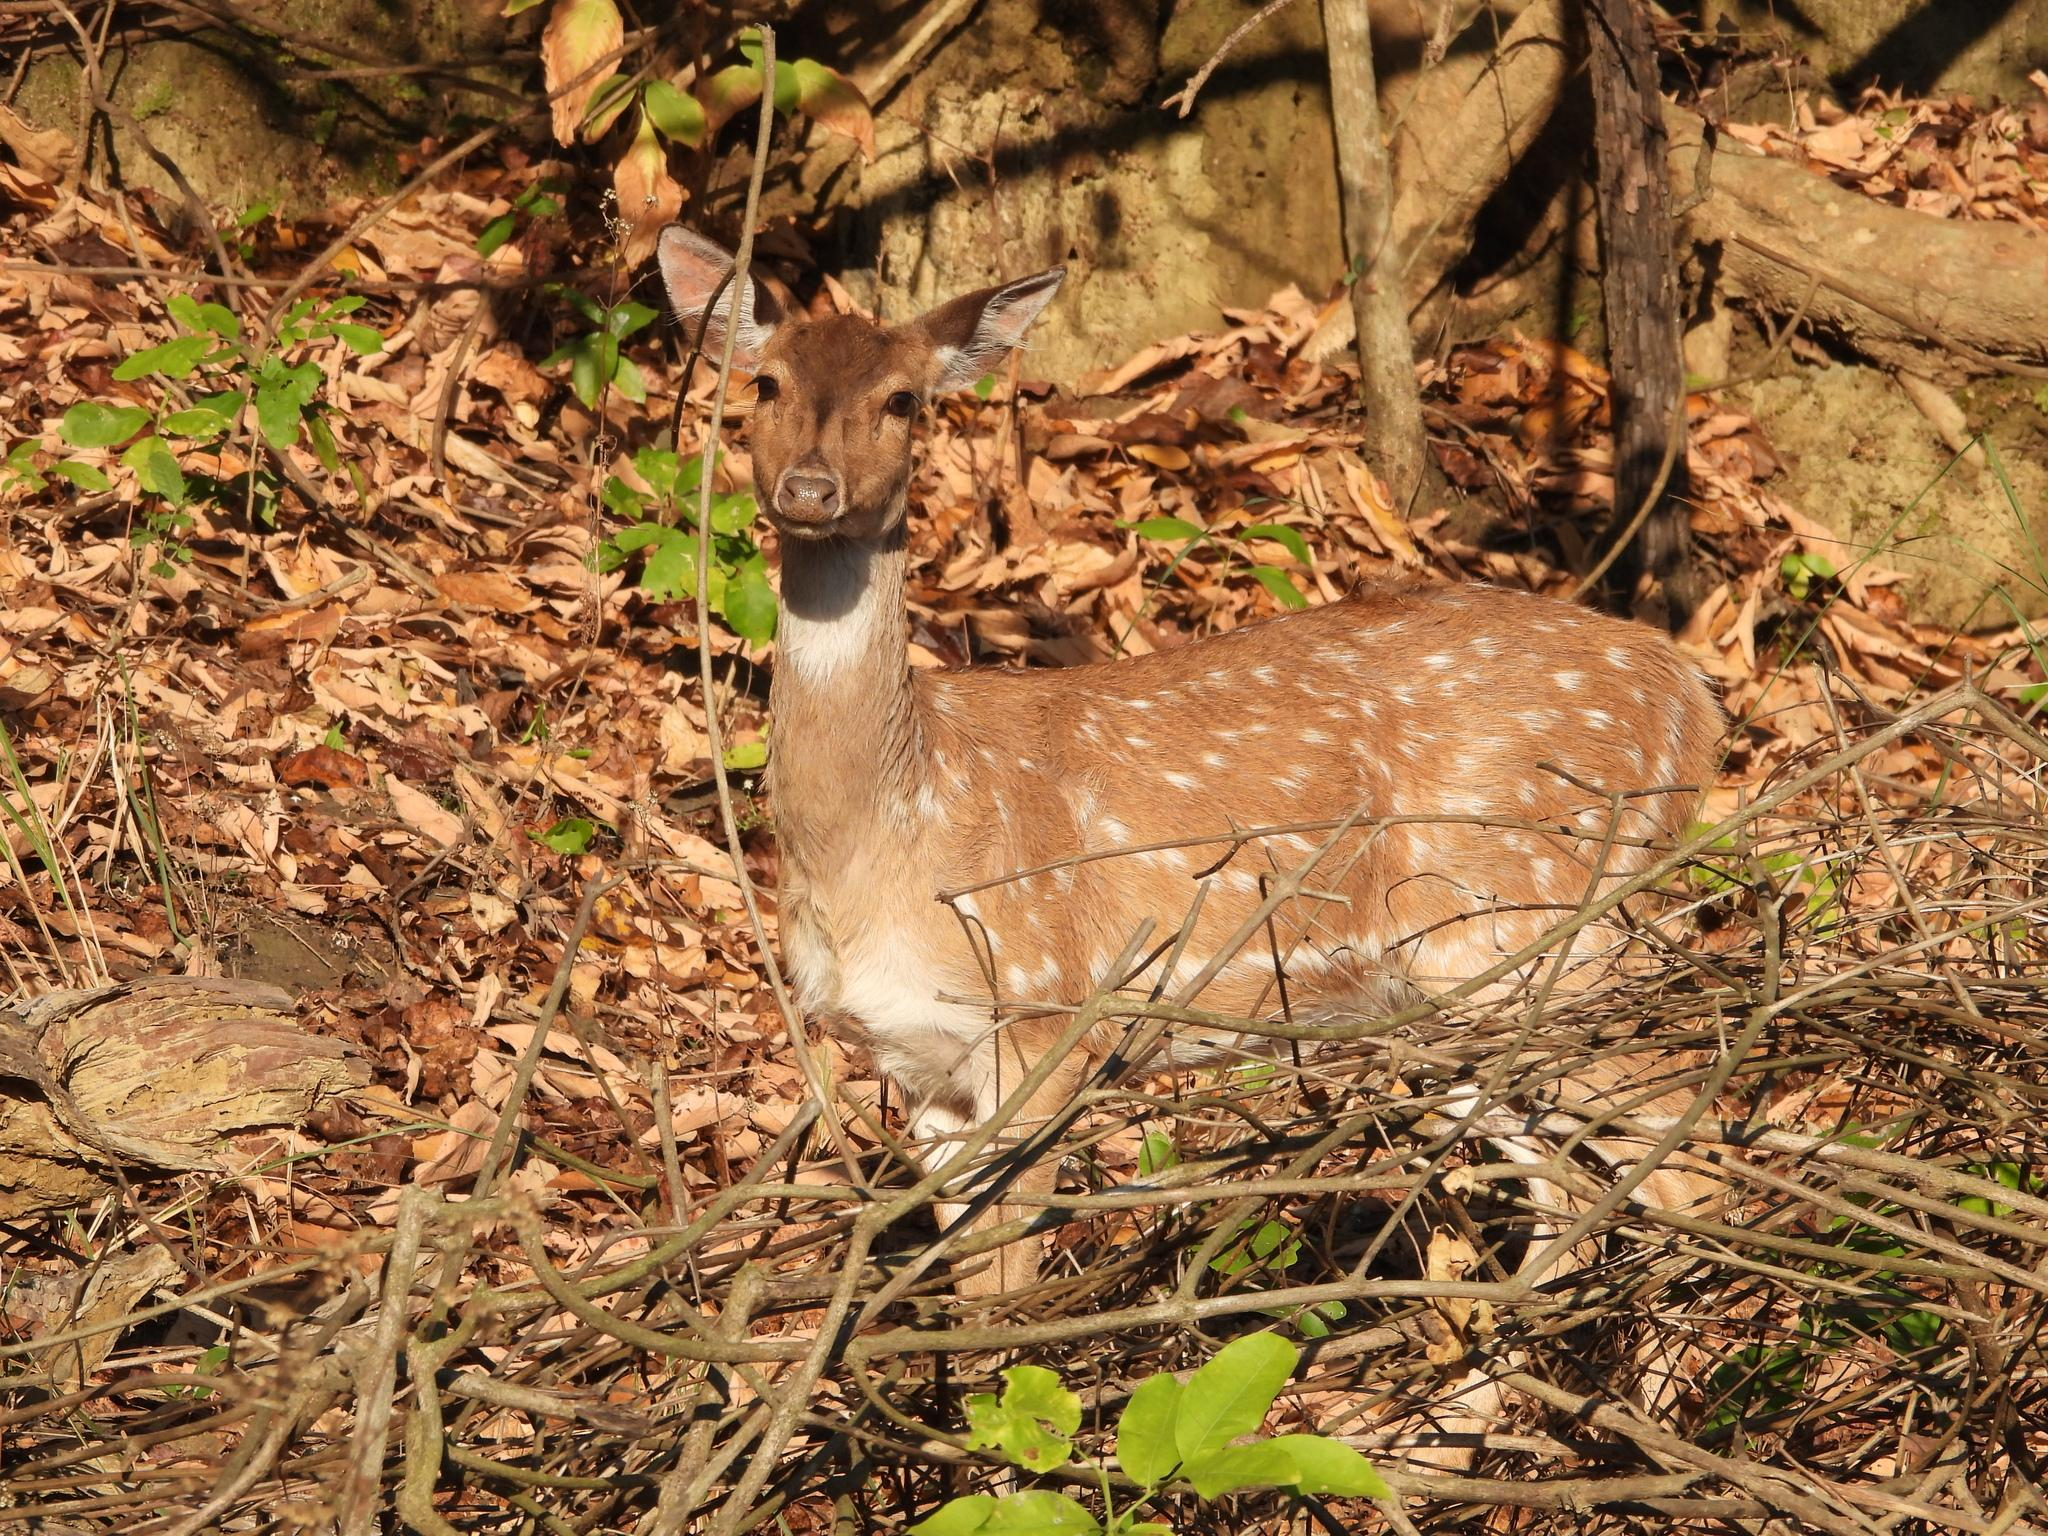Deer: (656, 224, 1722, 1168)
